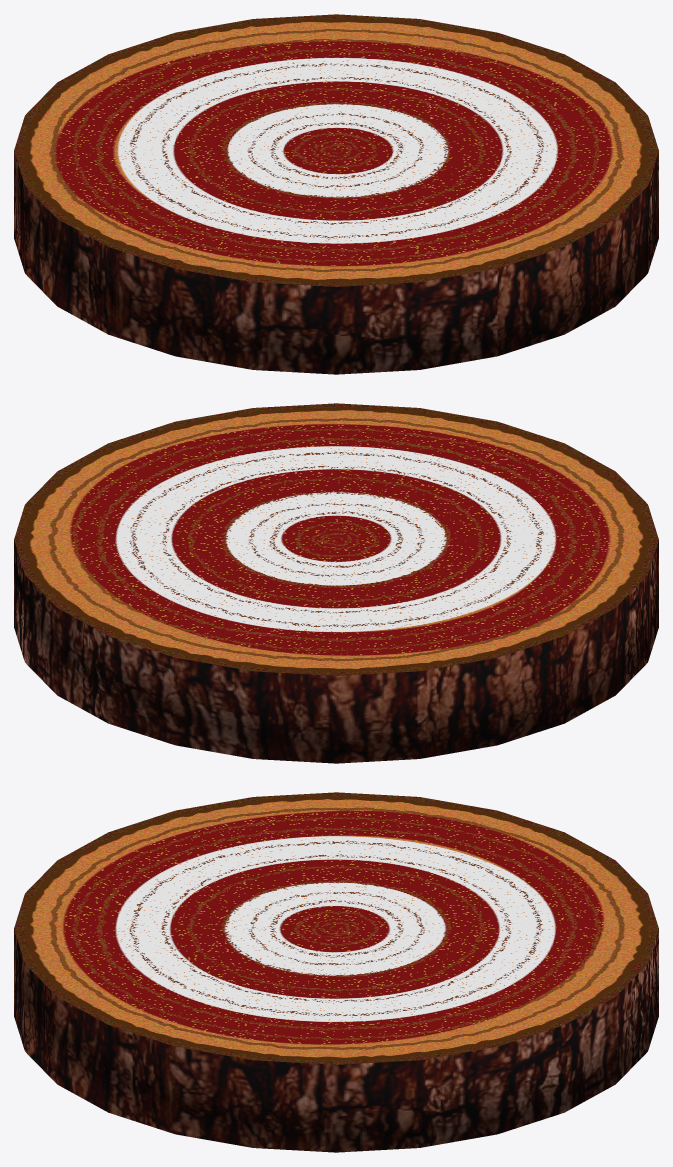
Rendered from TreeTargetModel.fbx.
3 views of the same model, one above another, from view 1: azimuth 30°, elevation 25°; view 2: azimuth 150°, elevation 25°; view 3: azimuth 270°, elevation 25° (orthographic).
Parts seen in each view (by area): view 1: Cylinder; view 2: Cylinder; view 3: Cylinder.
Boxes of the visible parts, x1,y1,x2,y2 form: Cylinder: (14,14,658,374); Cylinder: (14,403,658,763); Cylinder: (14,792,658,1152).
Size of the model in its own units: 400 by 60 by 400.
